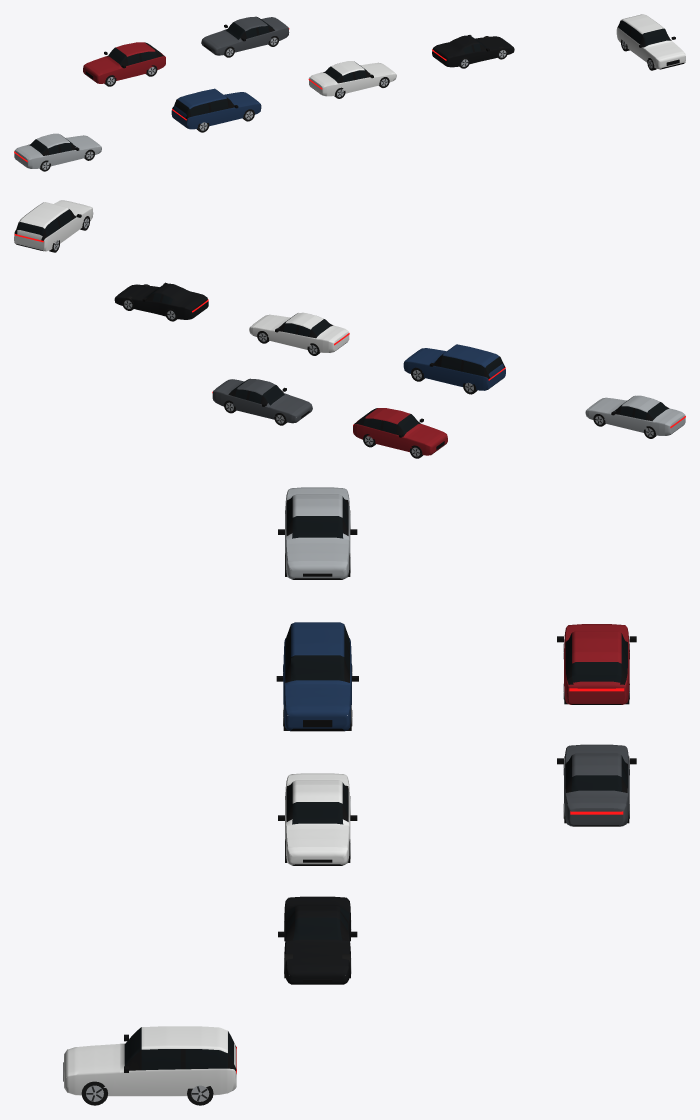
The model's file is hydrolux_auto_spa_placeholder_cars.glb.
3 renders of one model, top to bottom at view 1: azimuth 30°, elevation 25°; view 2: azimuth 150°, elevation 25°; view 3: azimuth 270°, elevation 25°, orthographic. The views are drawn at different scales.
Visible parts, largest first — view 1: P13_CAR_02_Suv_CarPaintBlue, P13_CAR_07_Suv_CarPaintWhite, P13_CAR_05_Crossover_CarPaintRed, P13_CAR_06_Sedan_CarPaintGraphite, P13_CAR_01_Sedan_CarPaintSilver, P13_CAR_03_Sedan_CarPaintWhite, P13_CAR_04_Coupe_CarPaintBlack; view 2: P13_CAR_02_Suv_CarPaintBlue, P13_CAR_05_Crossover_CarPaintRed, P13_CAR_06_Sedan_CarPaintGraphite, P13_CAR_01_Sedan_CarPaintSilver, P13_CAR_07_Suv_CarPaintWhite, P13_CAR_03_Sedan_CarPaintWhite, P13_CAR_04_Coupe_CarPaintBlack; view 3: P13_CAR_07_Suv_CarPaintWhite, P13_CAR_02_Suv_CarPaintBlue, P13_CAR_03_Sedan_CarPaintWhite, P13_CAR_01_Sedan_CarPaintSilver, P13_CAR_04_Coupe_CarPaintBlack, P13_CAR_06_Sedan_CarPaintGraphite, P13_CAR_05_Crossover_CarPaintRed.
Part boxes in pixels (x1,y1,x2,y2): P13_CAR_02_Suv_CarPaintBlue: (171,88,261,132); P13_CAR_07_Suv_CarPaintWhite: (616,14,685,70); P13_CAR_05_Crossover_CarPaintRed: (83,42,165,86); P13_CAR_06_Sedan_CarPaintGraphite: (201,16,289,57); P13_CAR_01_Sedan_CarPaintSilver: (14,133,101,171); P13_CAR_03_Sedan_CarPaintWhite: (308,61,396,98); P13_CAR_04_Coupe_CarPaintBlack: (432,35,514,68); P13_CAR_02_Suv_CarPaintBlue: (403,344,505,394); P13_CAR_05_Crossover_CarPaintRed: (353,408,447,458); P13_CAR_06_Sedan_CarPaintGraphite: (212,378,312,425); P13_CAR_01_Sedan_CarPaintSilver: (585,395,685,438); P13_CAR_07_Suv_CarPaintWhite: (14,200,93,252); P13_CAR_03_Sedan_CarPaintWhite: (249,312,349,355); P13_CAR_04_Coupe_CarPaintBlack: (114,282,208,321); P13_CAR_07_Suv_CarPaintWhite: (63,1026,236,1105); P13_CAR_02_Suv_CarPaintBlue: (276,622,358,731); P13_CAR_03_Sedan_CarPaintWhite: (278,773,357,865); P13_CAR_01_Sedan_CarPaintSilver: (278,487,357,579); P13_CAR_04_Coupe_CarPaintBlack: (278,896,357,984); P13_CAR_06_Sedan_CarPaintGraphite: (557,744,636,826); P13_CAR_05_Crossover_CarPaintRed: (557,624,636,704).
Size of the model in its own units: 40.17 by 1.81 by 16.43.
